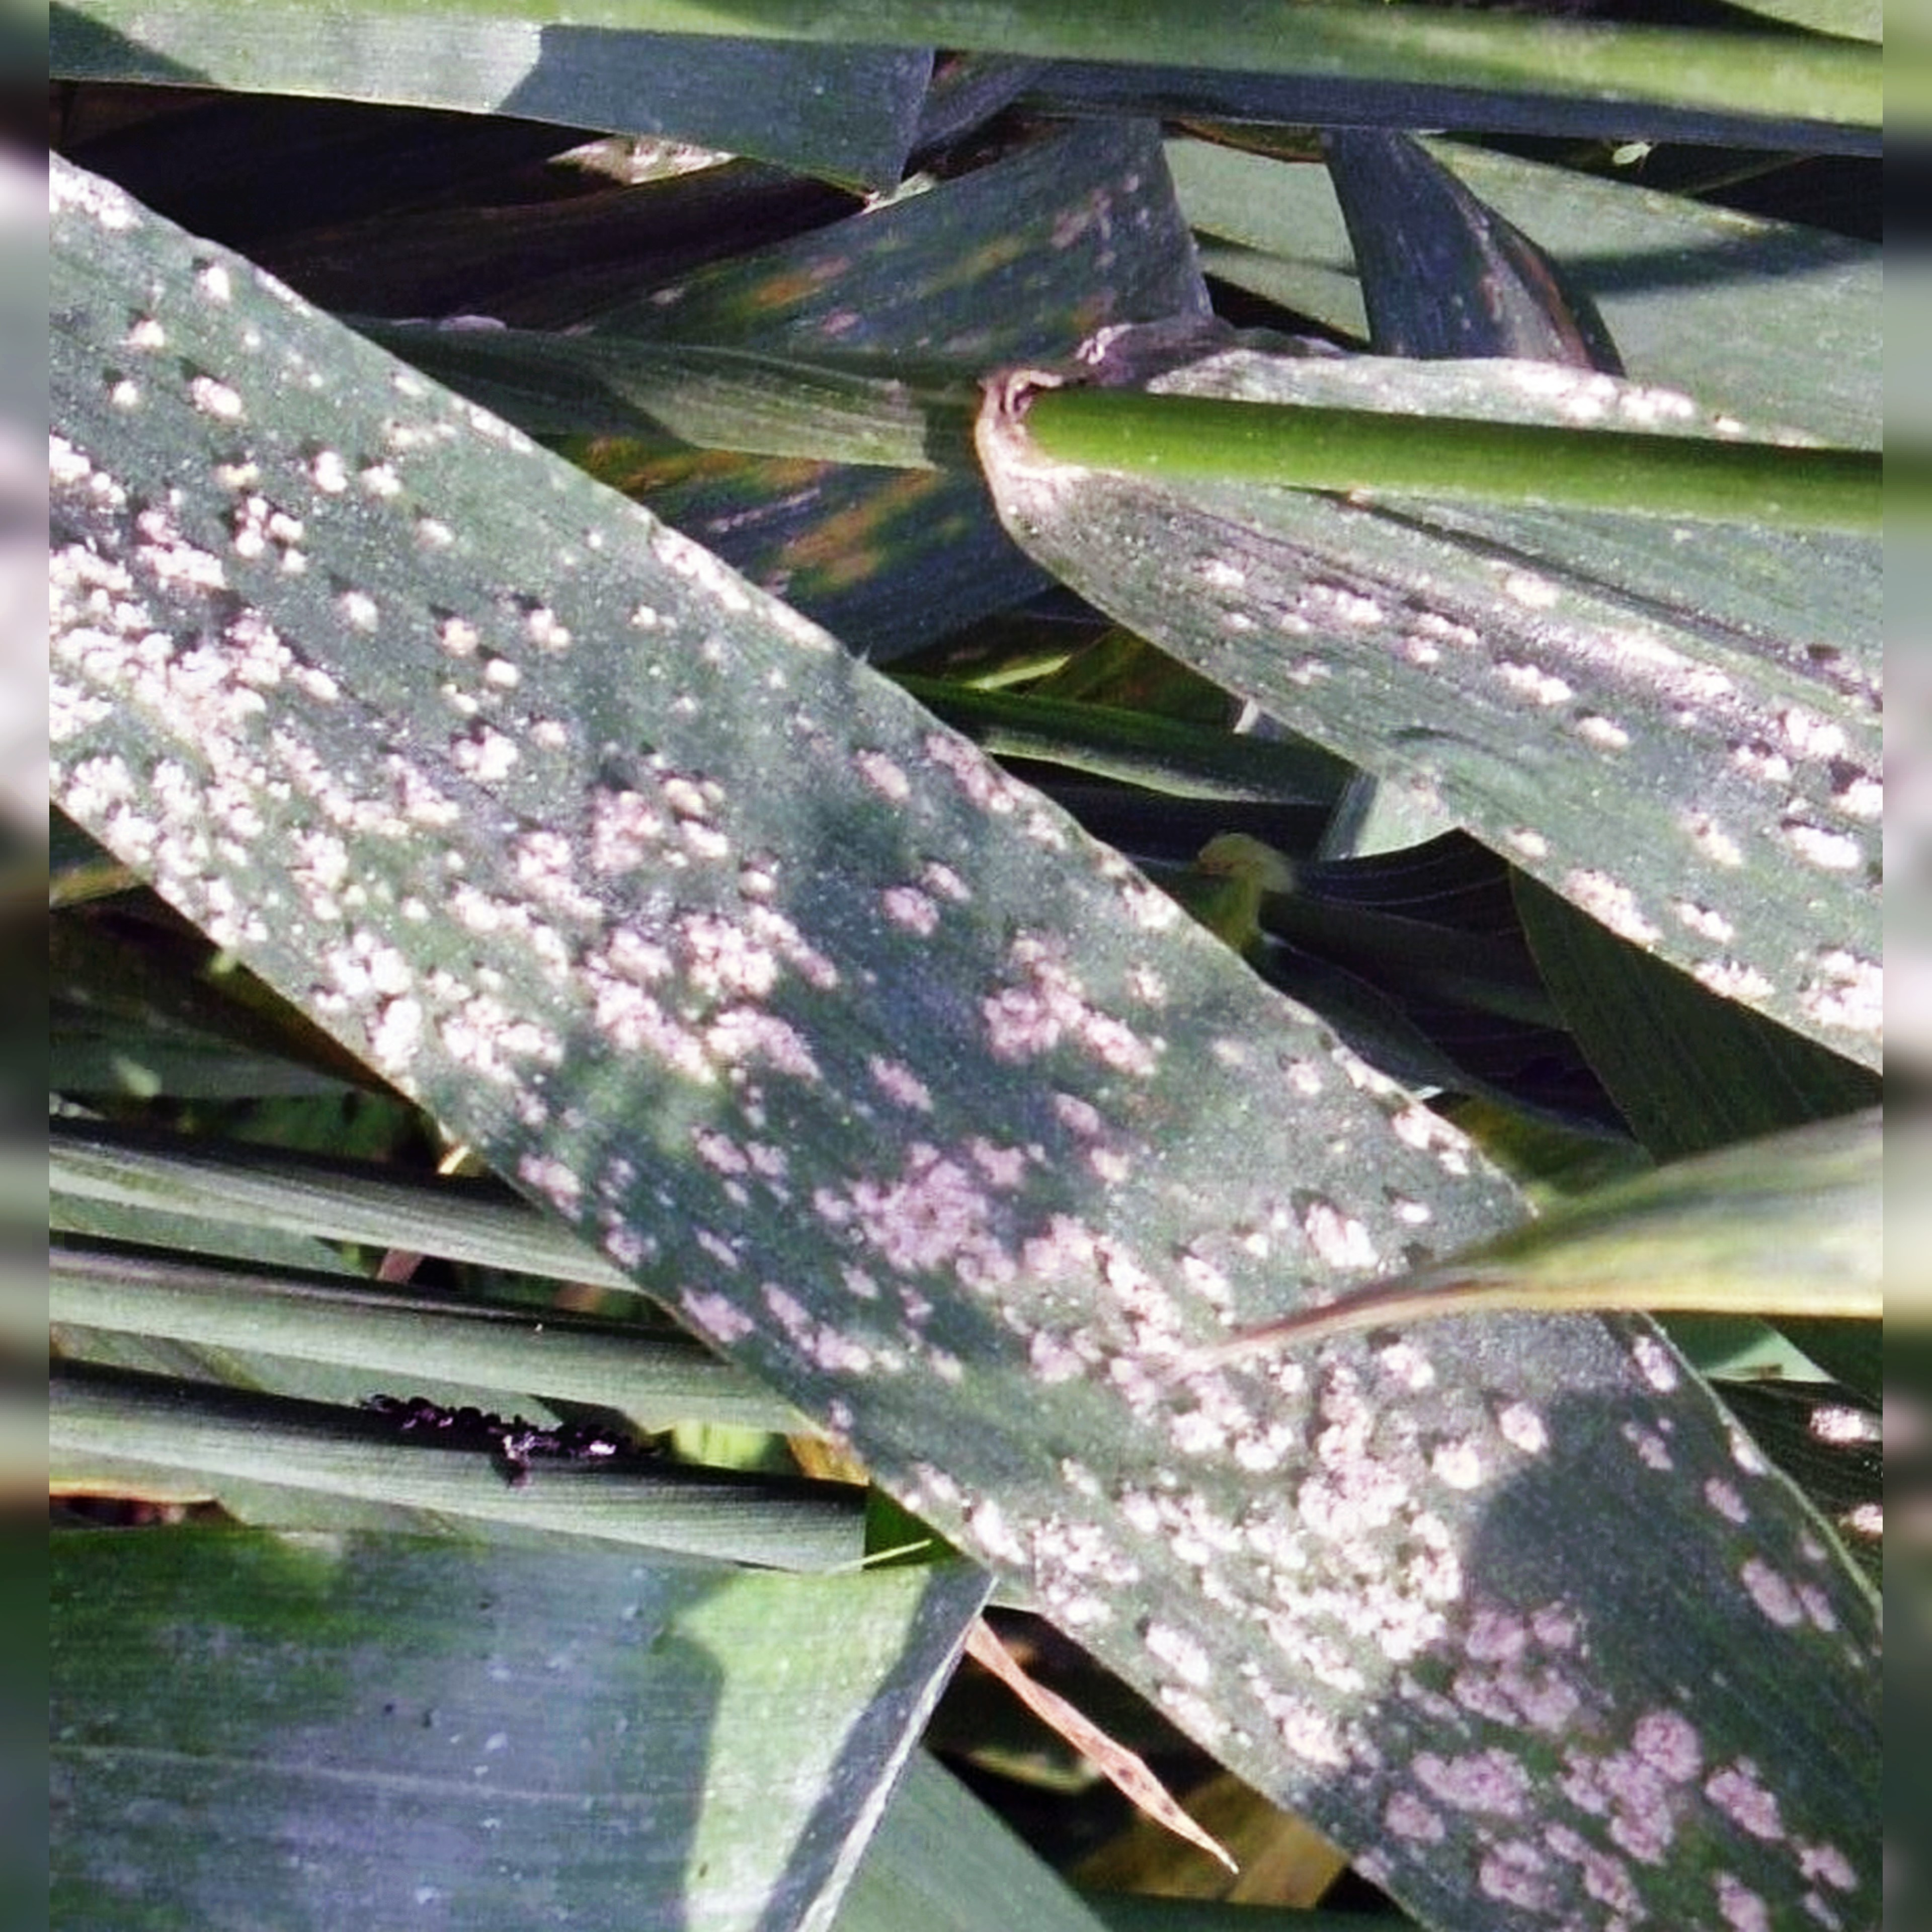Powdery Mildew: (136, 449, 1663, 1900)
